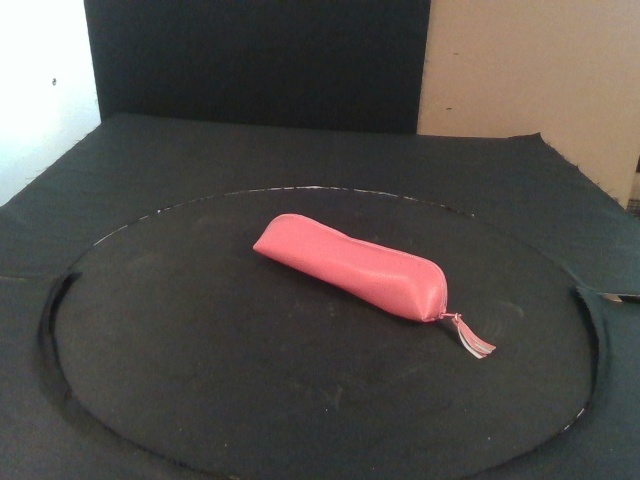pencil_case: (253, 213, 449, 320)
